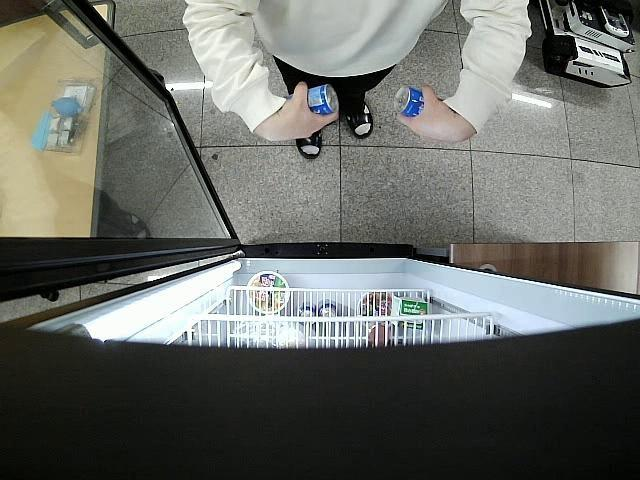15_letsbe: (393, 85, 444, 120), (284, 84, 339, 114)
